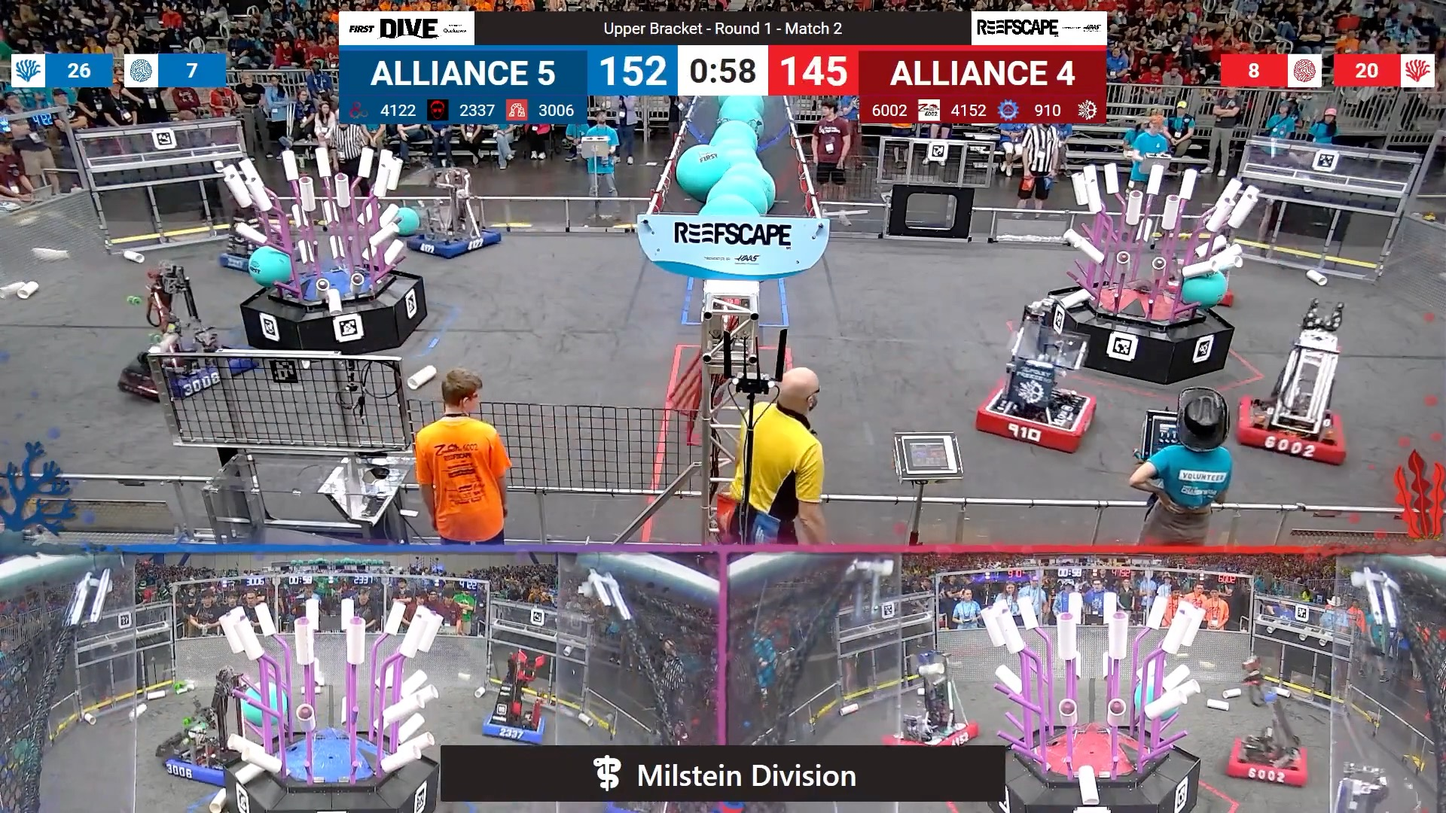bumpers: (971, 374, 1097, 456), (1231, 394, 1353, 466), (118, 346, 253, 400), (1219, 735, 1315, 791), (157, 740, 254, 787), (395, 226, 505, 261), (880, 714, 984, 748), (472, 706, 554, 747), (212, 245, 276, 277)
